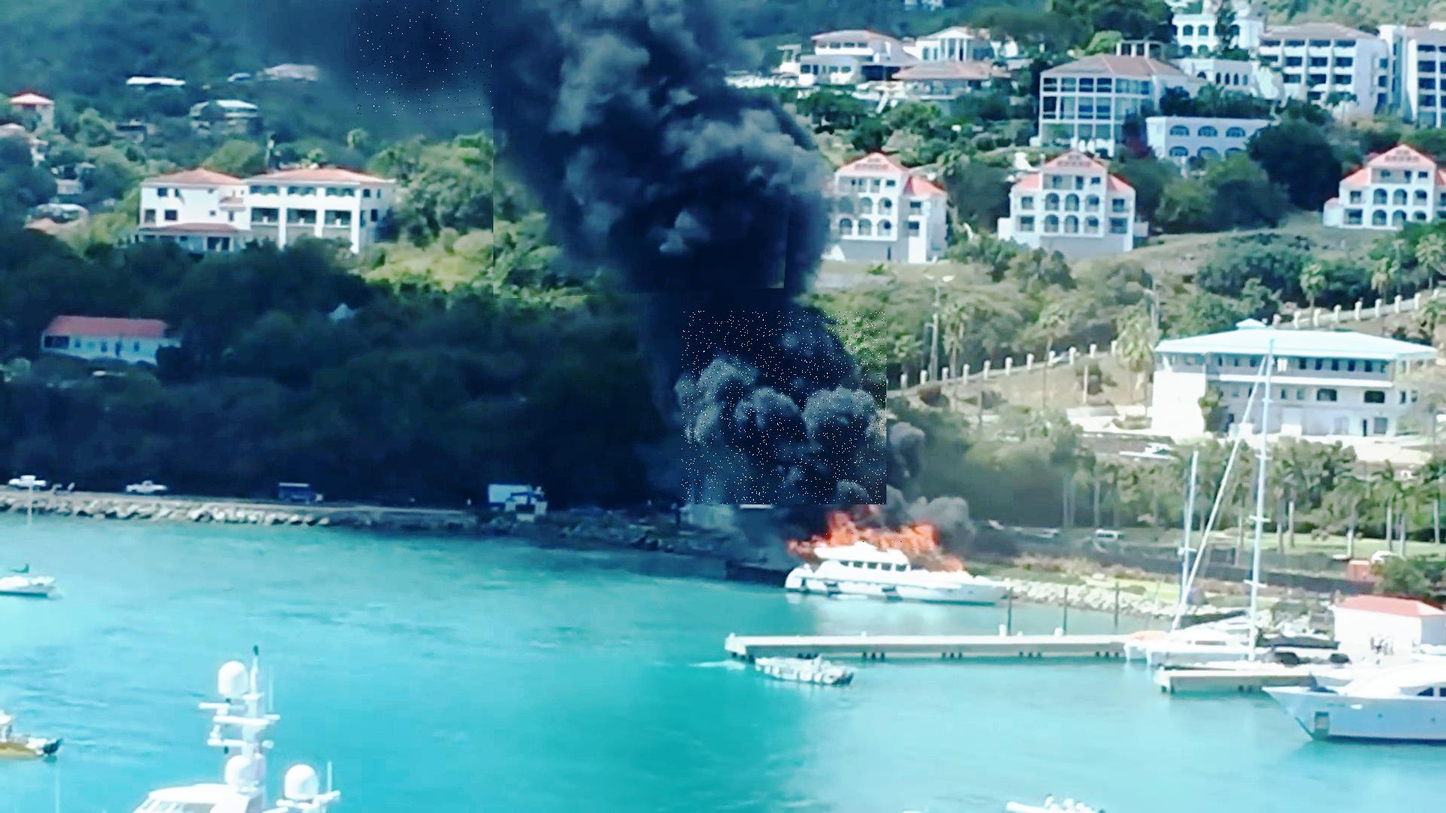smoke: (494, 0, 806, 300), (356, 0, 754, 116), (682, 311, 887, 505), (817, 529, 930, 550)
